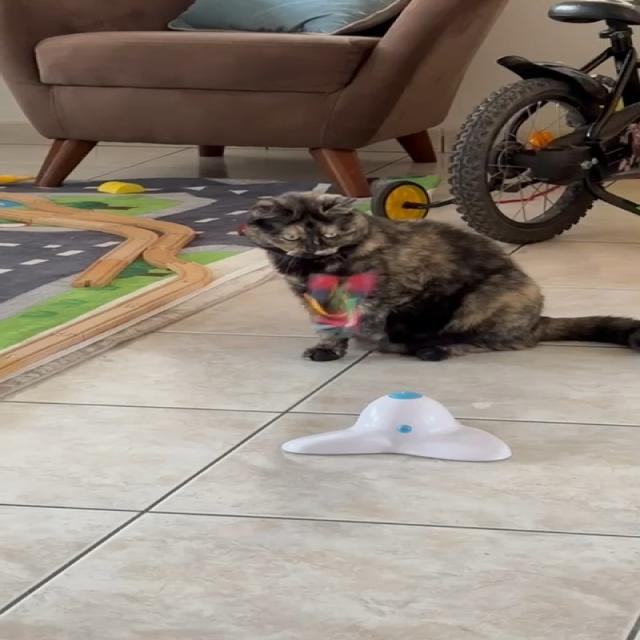authorized: (238, 190, 638, 362)
